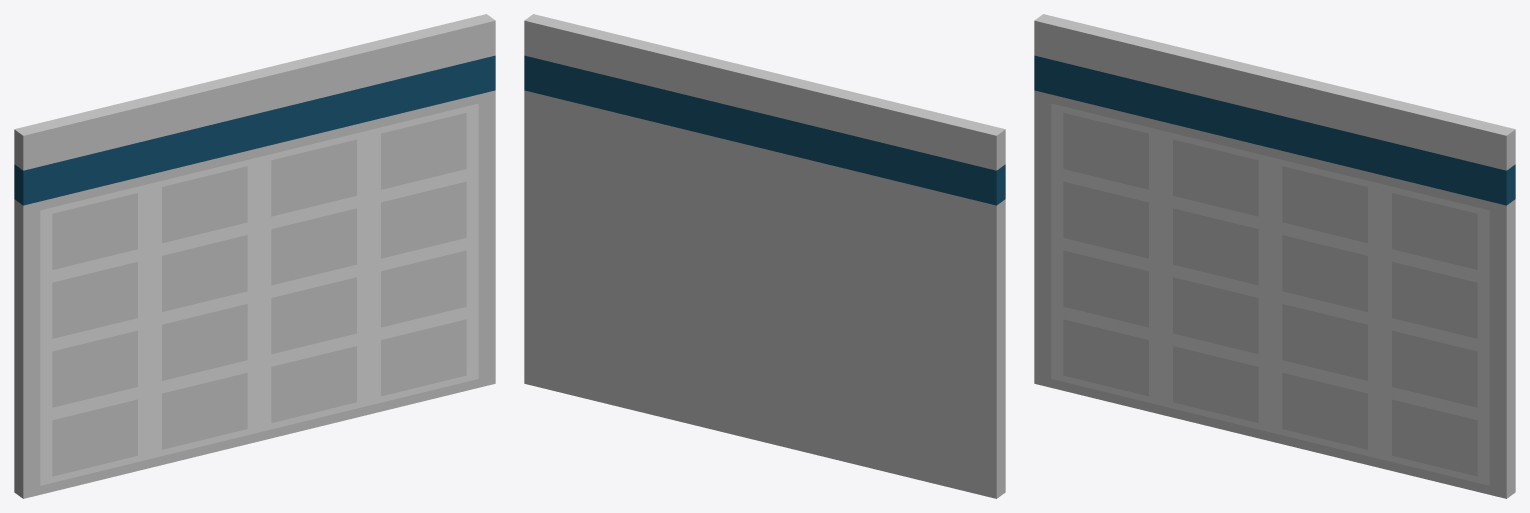
File: Calendar.fbx
The picture shows the model from 3 angles, left to right: view 1: azimuth 30°, elevation 25°; view 2: azimuth 150°, elevation 25°; view 3: azimuth 330°, elevation 25°; orthographic projection.
Parts seen in each view (by area): view 1: Calendar; view 2: Calendar; view 3: Calendar.
Boxes of the visible parts, x1,y1,x2,y2 form: Calendar: (14, 14, 495, 498); Calendar: (524, 14, 1005, 498); Calendar: (1034, 14, 1515, 498).
Size of the model in its own units: 39.23 by 28.81 by 1.3.
